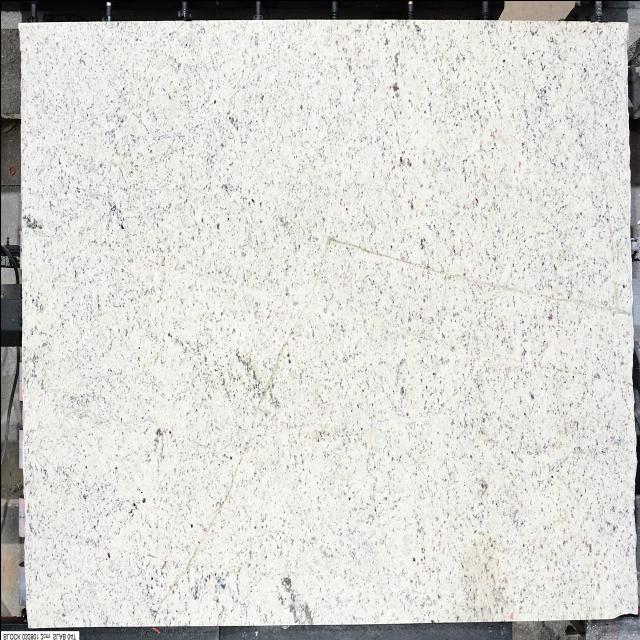chapa: (19, 20, 635, 627)
